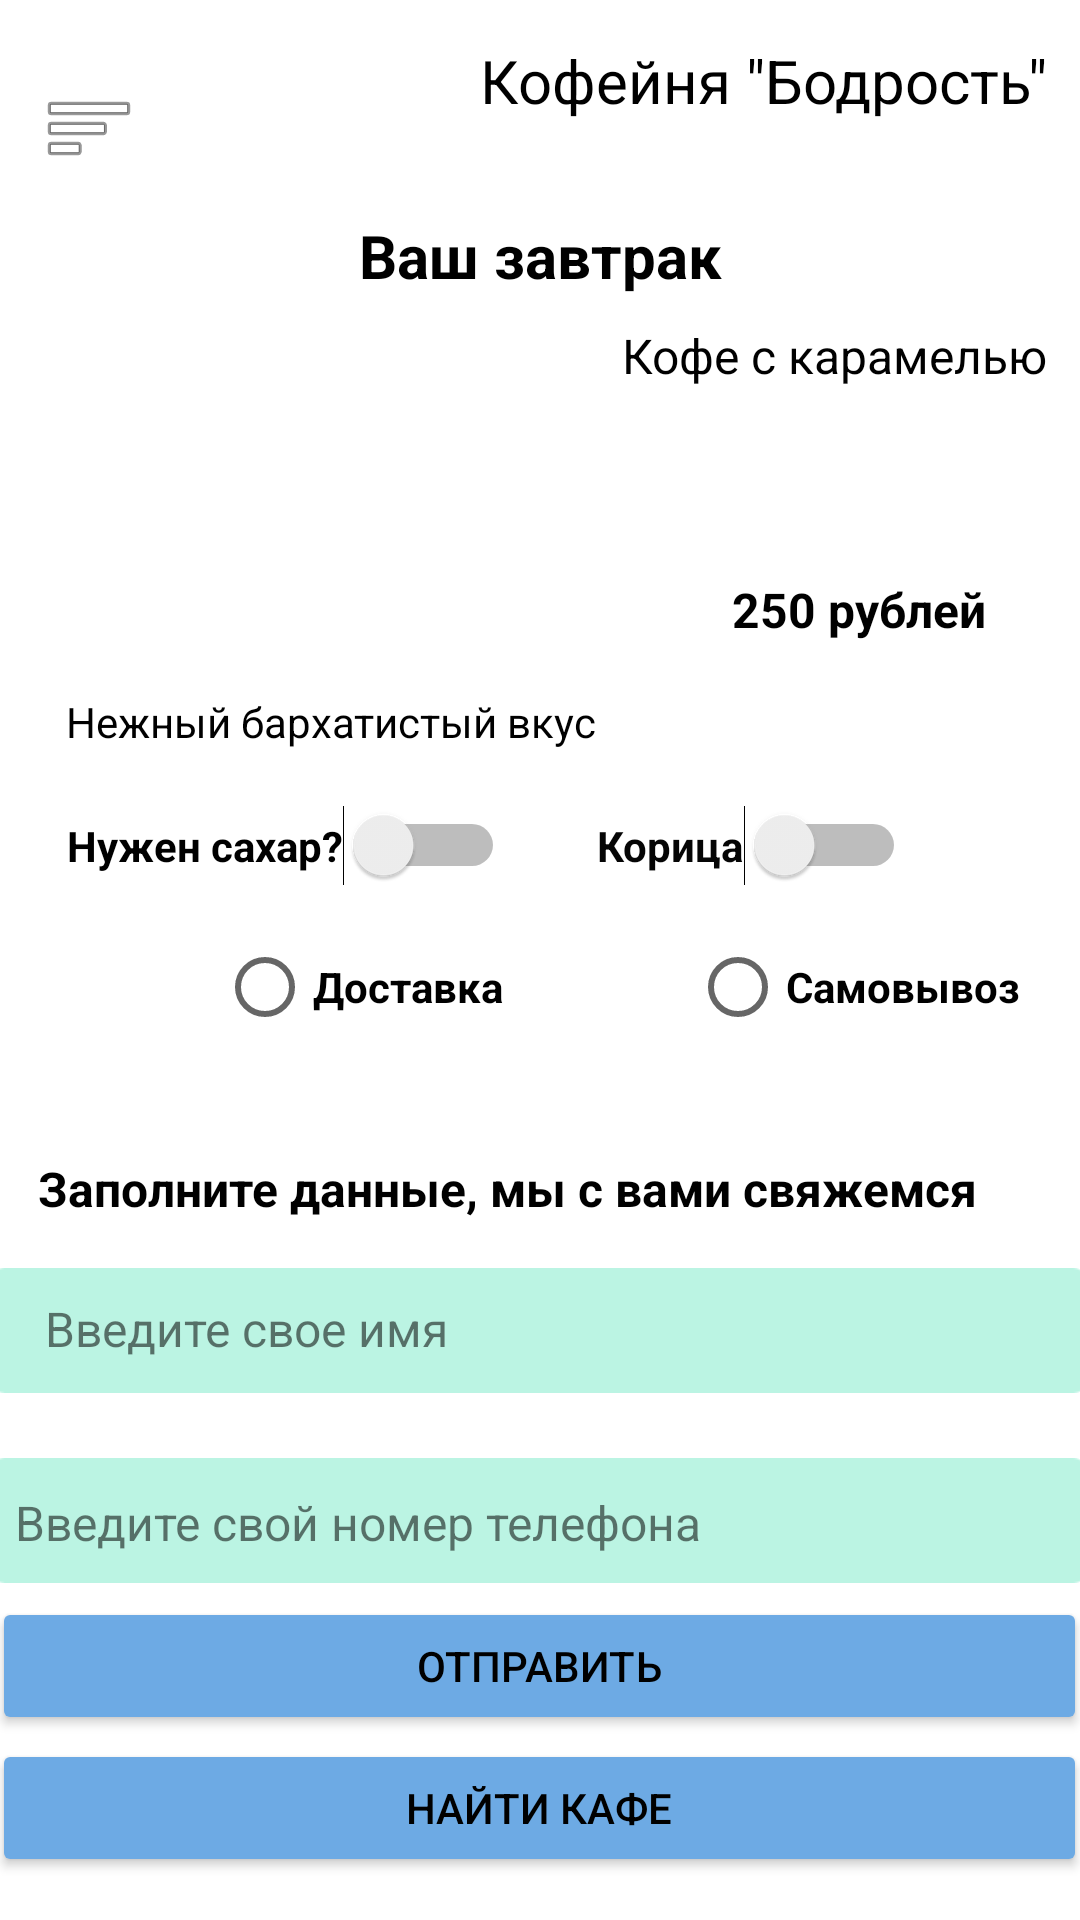

Icon bounding boxes for this 1080*1920 phone screenshot, format (x1, y1, x2, y2):
sort by size: (48, 102, 130, 155)
